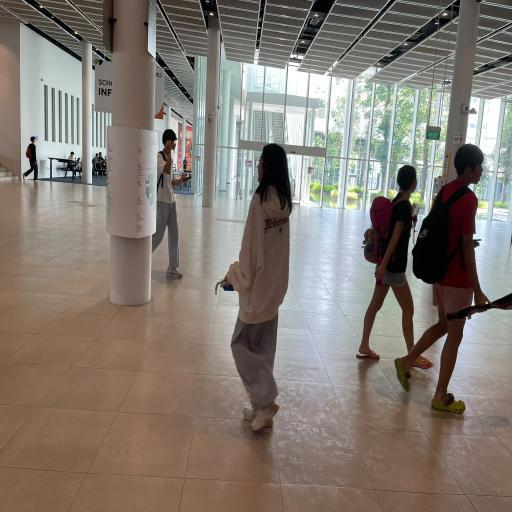person_left: (218, 144, 299, 438)
person_right: (422, 134, 492, 430), (363, 159, 424, 375), (157, 121, 185, 288), (20, 135, 42, 185)
